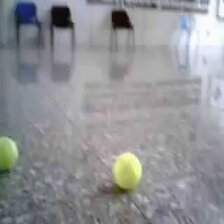tennis: (112, 152, 142, 190), (1, 135, 19, 170)
